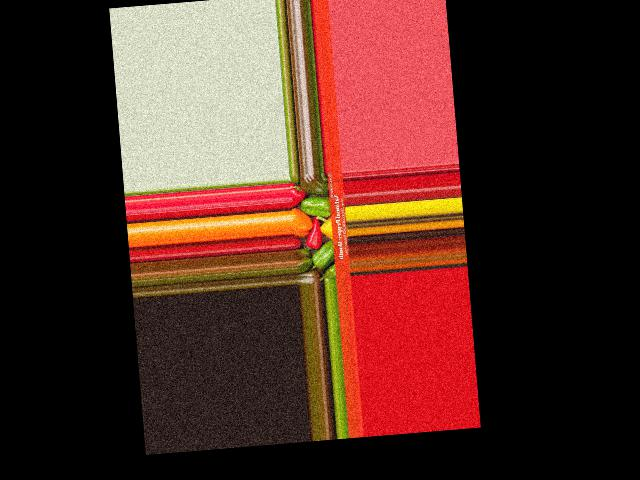bell_pepper: (299, 172, 329, 196)
